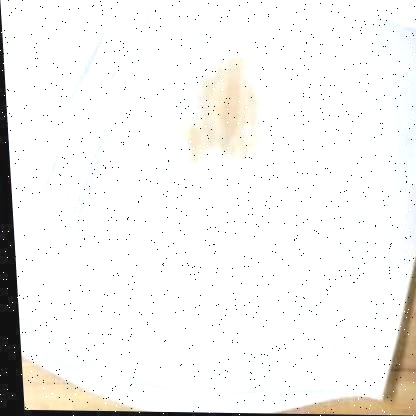coffee: (204, 62, 260, 155)
